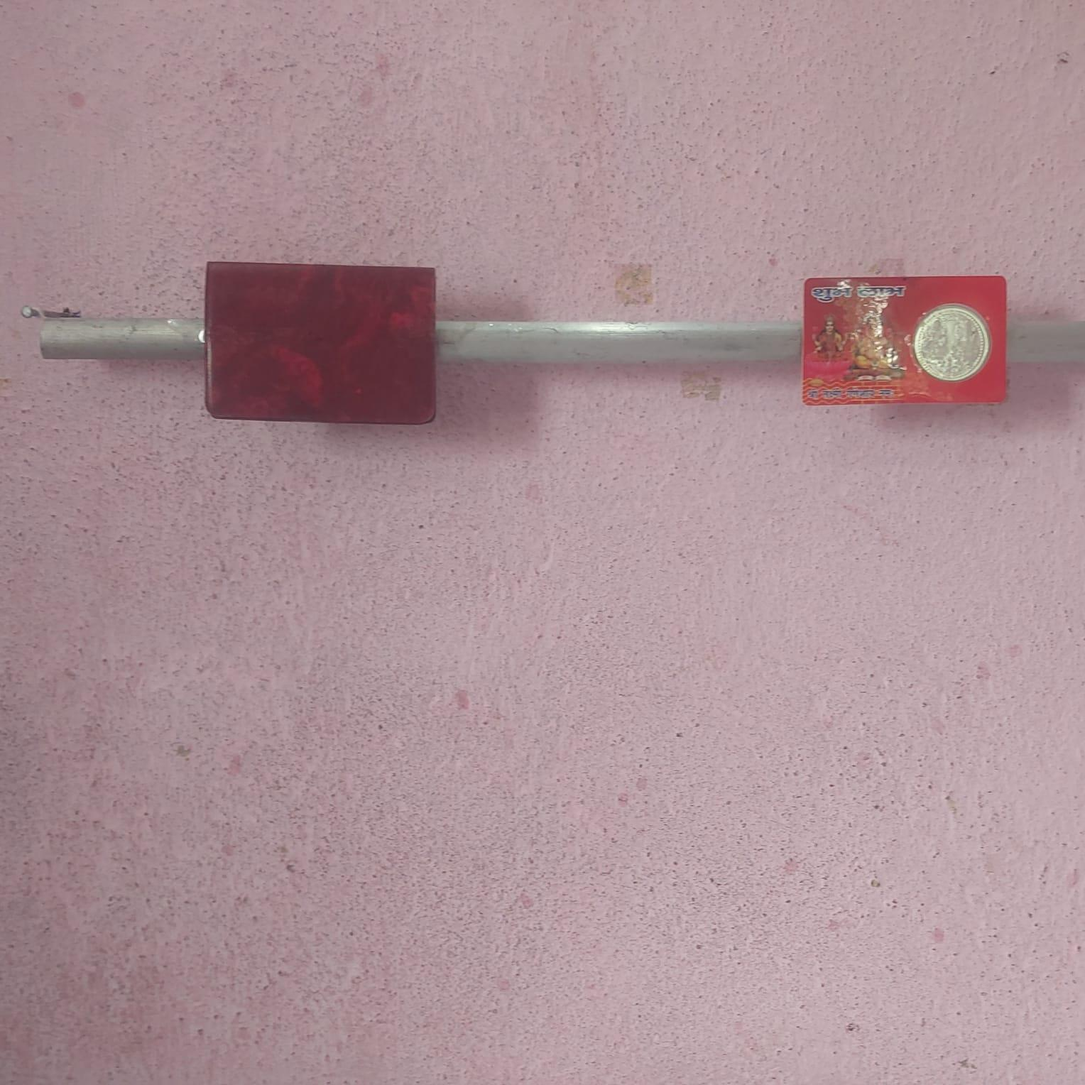blessing_card: (800, 266, 1018, 408)
wallet: (207, 261, 445, 422)
